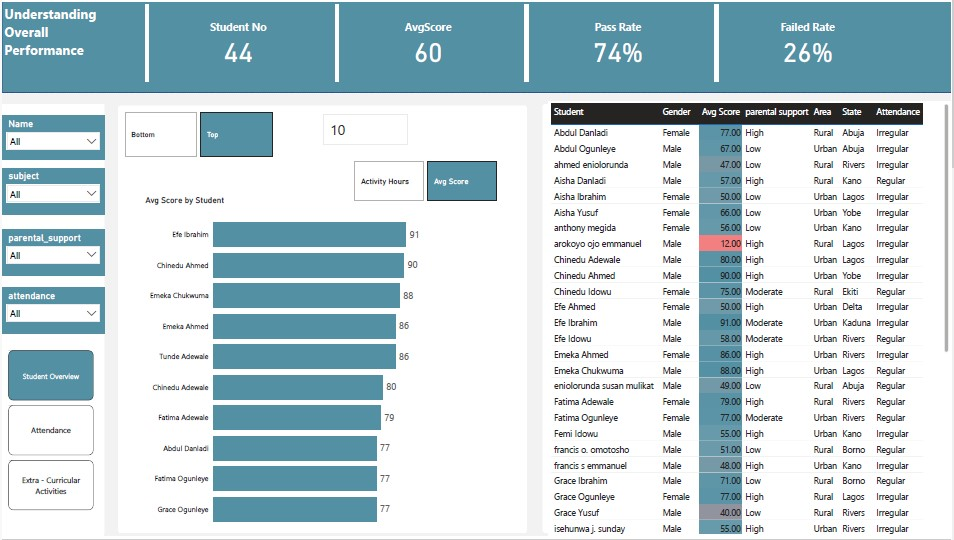

The page's visual inventory and layout, read from the dashboard file:
{"tool":"powerbi","page":{"name":"Student Overview","canvas":[1920,1080],"ordinal":0},"visuals":[{"type":"cardVisual","title":"Total Student ","fields":{"Data":["Dax.Student No","Dax.AvgScore","Dax.PassRate","Dax.FailedRate"]},"box":[284.9,0,1539.2,165.8],"z":0},{"type":"tableEx","fields":{"Values":["school_performance student_demographics.full_name","school_performance student_demographics.gender","Dax.AvgScoreByStudent","school_performance parents_info.parental_support","school_performance student_demographics.urban_or_rural","school_performance student_demographics.region_state","school_performance student_demographics.attendance_consistency"]},"box":[1105.5,199.8,814.3,880.2],"z":1000},{"type":"barChart","fields":{"Y":["school_performance performance_records.Rank Student"],"Category":["school_performance student_demographics.full_name"]},"box":[284.9,389.1,565.5,690.9],"z":2000},{"type":"slicer","fields":{"Values":["TopParameter.TopParameter"]},"box":[635.7,216.9,229.6,82.9],"z":3000},{"type":"advancedSlicerVisual","fields":{"Values":["TopBottom.Value"]},"box":[244.5,216.9,463.5,99.9],"z":4000},{"type":"advancedSlicerVisual","fields":{"Values":["student Parameter.student Parameter"]},"box":[708,316.8,446.5,89.3],"z":5000},{"type":"slicer","fields":{"Values":["Teacher_Info.Name"]},"box":[0,229.5,206.6,88.2],"z":6000},{"type":"slicer","fields":{"Values":["school_performance performance_records.subject"]},"box":[0,335.3,206.6,93.2],"z":6001},{"type":"slicer","fields":{"Values":["school_performance parents_info.parental_support"]},"box":[0,458.8,206.6,93.2],"z":6002},{"type":"slicer","fields":{"Values":["school_performance student_demographics.attendance_consistency"]},"box":[0,577.2,206.6,93.2],"z":6003},{"type":"textbox","box":[0,0,221.1,150.9],"z":6004},{"type":"pageNavigator","box":[12.8,703.7,172.2,323.1],"z":6005}]}

Visuals, with their boxes in screenshot pixels (x1, y1, x2, y2), scaled from the page's 1920x1080 canvas onto the 954x540 screenshot:
"Total Student " cardVisual: 142/0/906/83
tableEx - school_performance student_demographics.full_name x school_performance student_demographics.gender: 549/100/953/539
barChart - school_performance performance_records.Rank Student x school_performance student_demographics.full_name: 142/195/423/539
slicer - TopParameter.TopParameter: 316/108/430/150
advancedSlicerVisual - TopBottom.Value: 121/108/352/158
advancedSlicerVisual - student Parameter.student Parameter: 352/158/574/203
slicer - Teacher_Info.Name: 0/115/103/159
slicer - school_performance performance_records.subject: 0/168/103/214
slicer - school_performance parents_info.parental_support: 0/229/103/276
slicer - school_performance student_demographics.attendance_consistency: 0/289/103/335
textbox: 0/0/110/75
pageNavigator: 6/352/92/513
